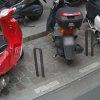Motorcycle: (46, 7, 89, 67)
